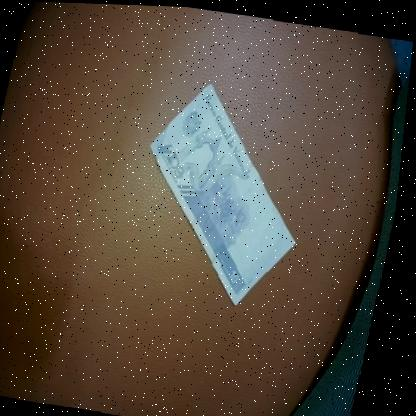ten-back-vef: (124, 74, 328, 310)
